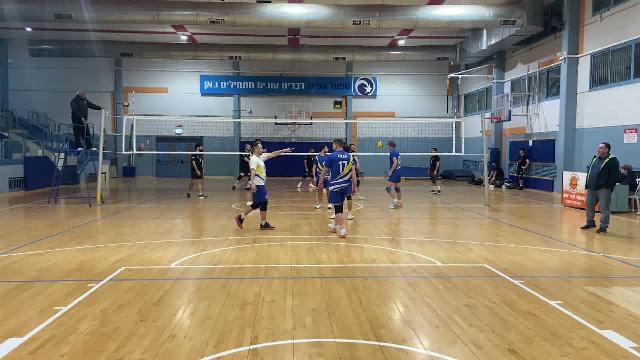ball: (376, 137, 385, 151)
